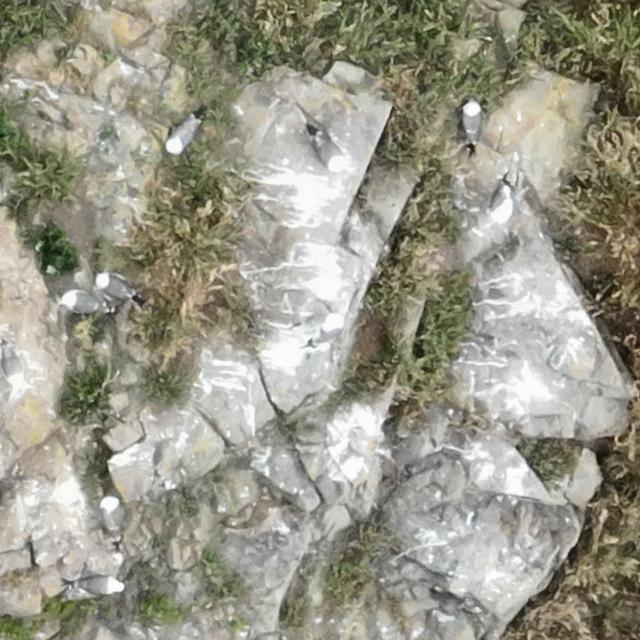umineko: (304, 311, 346, 348), (92, 270, 136, 301), (60, 290, 109, 314), (489, 180, 516, 220), (168, 119, 196, 150), (313, 134, 340, 166), (100, 494, 122, 533), (81, 578, 125, 594), (464, 105, 481, 138)
